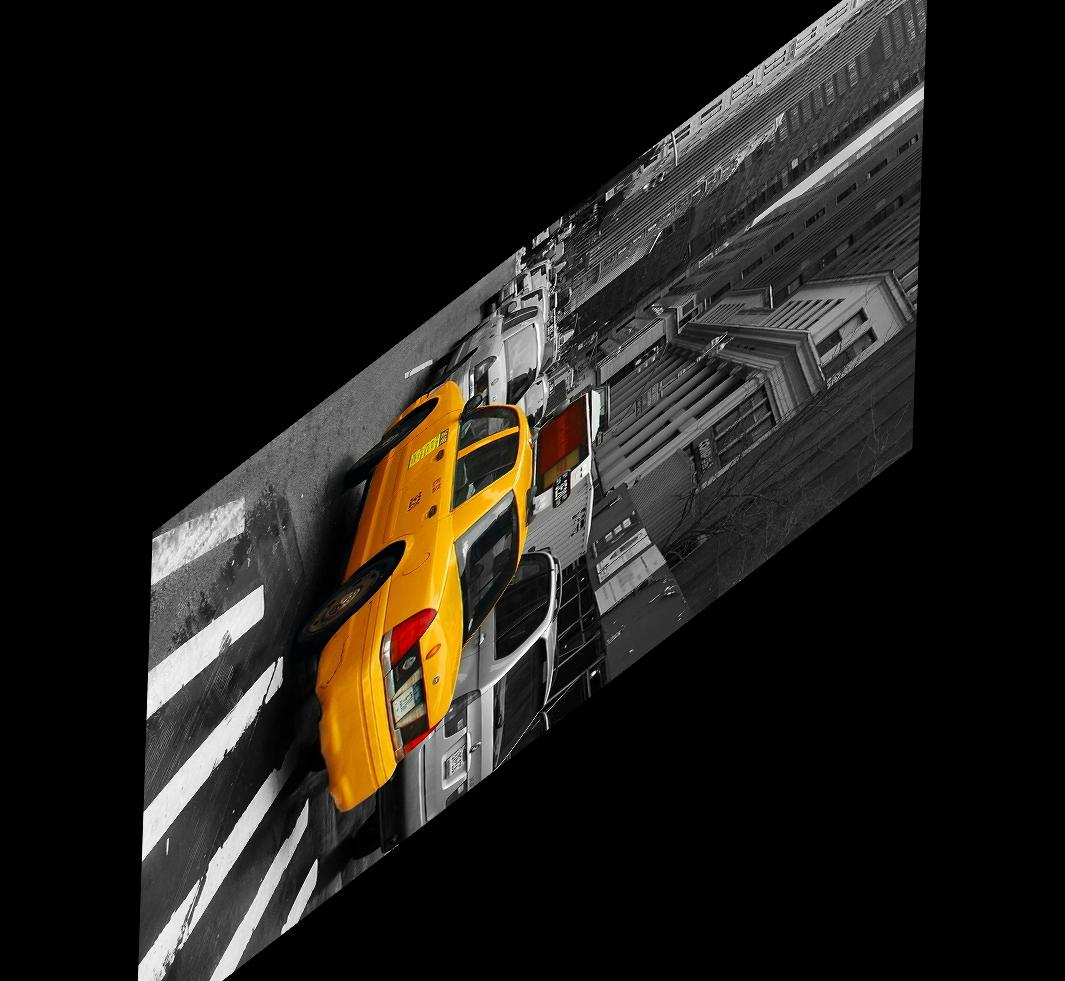taxi: (384, 356, 464, 818)
